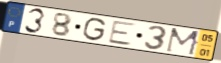3: (22, 8, 50, 35), (143, 25, 170, 52)
8: (50, 12, 74, 38)
E: (107, 20, 139, 48)
G: (81, 17, 108, 43)
M: (164, 27, 203, 57)
